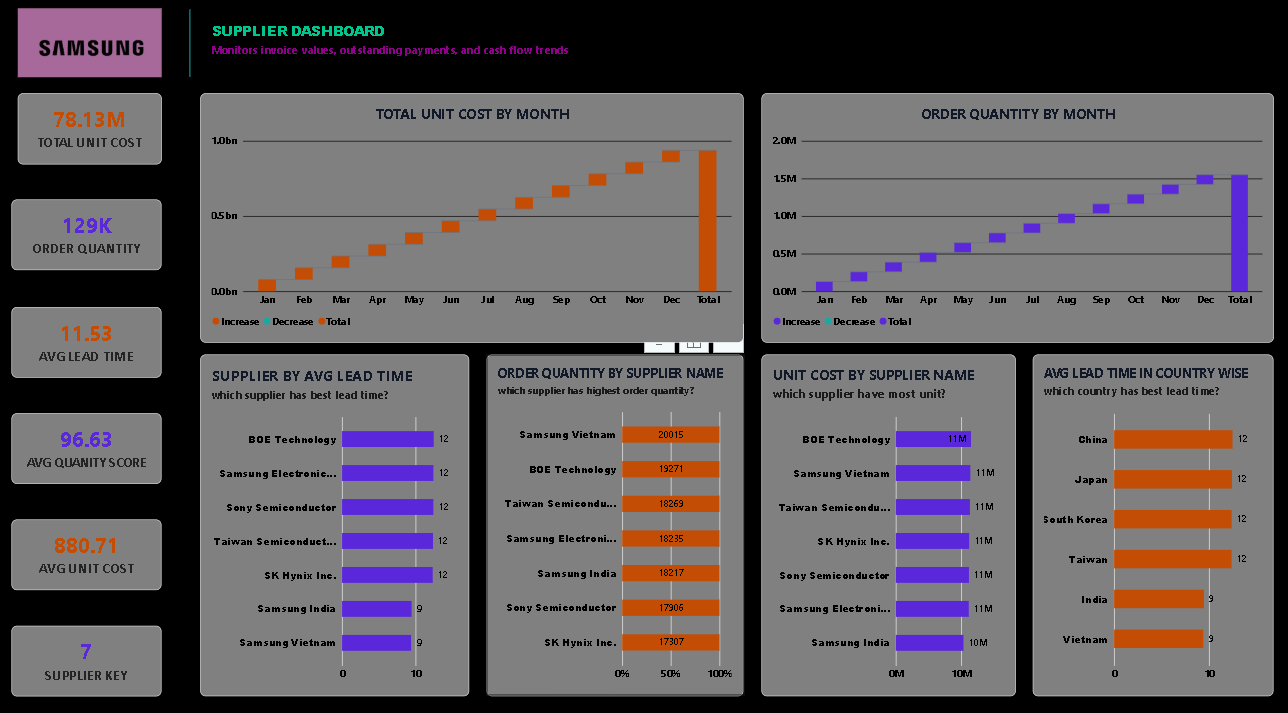

This screenshot's page, from the dashboard's own definition file:
{"tool":"powerbi","page":{"name":"SUPPLIER","canvas":[1920,1080],"ordinal":2},"visuals":[{"type":"cardVisual","fields":{"Data":["MeasureTable.Order_Quantity"]},"box":[25.3,299,221,104],"z":0},{"type":"shape","box":[200.6,18.4,175.5,99.5],"z":1000},{"type":"image","box":[35,16.6,211.7,101.2],"z":2000},{"type":"textbox","title":"SUPPLIER DASHBOARD","box":[320.2,35,532,67],"z":3000},{"type":"cardVisual","fields":{"Data":["MeasureTable.Avg_Lead_Time"]},"box":[25.3,455.9,221,104],"z":4000},{"type":"cardVisual","fields":{"Data":["MeasureTable.Avg_quality_score"]},"box":[25.3,612.8,221,104],"z":5000},{"type":"cardVisual","fields":{"Data":["MeasureTable.Avg_unit_cost"]},"box":[25.3,769.7,221,104],"z":6000},{"type":"cardVisual","fields":{"Data":["MeasureTable.Total_unit_cost"]},"box":[34.4,141.2,211.7,105],"z":7000},{"type":"cardVisual","fields":{"Data":["Count(dim_supplier.supplier_key)"]},"box":[25.3,926.5,221,104],"z":8000},{"type":"barChart","title":"SUPPLIER BY AVG LEAD TIME","fields":{"Y":["MeasureTable.Avg_Lead_Time"],"Category":["dim_supplier.supplier_name"]},"box":[304,526.6,396.3,503.1],"z":9000},{"type":"barChart","title":"UNIT COST BY SUPPLIER NAME","fields":{"Category":["dim_supplier.supplier_name"],"Y":["MeasureTable.Total_unit_cost"]},"box":[1129.2,526.6,374.6,503.1],"z":10000},{"type":"hundredPercentStackedBarChart","title":"ORDER QUANTITY BY SUPPLIER NAME","fields":{"Y":["MeasureTable.Order_Quantity"],"Category":["dim_supplier.supplier_name"]},"box":[725.7,526.6,378.2,503.1],"z":11000},{"type":"barChart","title":"AVG LEAD TIME IN COUNTRY WISE","fields":{"Y":["MeasureTable.Avg_Lead_Time"],"Category":["dim_supplier.country"]},"box":[1529.2,526.6,354.7,503.1],"z":12000},{"type":"waterfallChart","title":"TOTAL UNIT COST BY MONTH","fields":{"Category":["dim_date.Month_short"],"Y":["MeasureTable.Total_unit_cost"]},"box":[304,141.2,799.9,367.4],"z":13000},{"type":"waterfallChart","title":"ORDER QUANTITY BY MONTH","fields":{"Y":["MeasureTable.Order_Quantity"],"Category":["dim_date.Month_short"]},"box":[1129.2,141.2,754.6,367.4],"z":14000}]}

Visuals, with their boxes in screenshot pixels (x1, y1, x2, y2), scaled from the page's 1920x1080 canvas onto the 1288x713 screenshot:
cardVisual - MeasureTable.Order_Quantity: x1=17 y1=197 x2=165 y2=266
shape: x1=135 y1=12 x2=252 y2=78
image: x1=23 y1=11 x2=165 y2=78
"SUPPLIER DASHBOARD" textbox: x1=215 y1=23 x2=572 y2=67
cardVisual - MeasureTable.Avg_Lead_Time: x1=17 y1=301 x2=165 y2=370
cardVisual - MeasureTable.Avg_quality_score: x1=17 y1=405 x2=165 y2=473
cardVisual - MeasureTable.Avg_unit_cost: x1=17 y1=508 x2=165 y2=577
cardVisual - MeasureTable.Total_unit_cost: x1=23 y1=93 x2=165 y2=163
cardVisual - Count(dim_supplier.supplier_key): x1=17 y1=612 x2=165 y2=680
"SUPPLIER BY AVG LEAD TIME" barChart: x1=204 y1=348 x2=470 y2=680
"UNIT COST BY SUPPLIER NAME" barChart: x1=758 y1=348 x2=1009 y2=680
"ORDER QUANTITY BY SUPPLIER NAME" hundredPercentStackedBarChart: x1=487 y1=348 x2=741 y2=680
"AVG LEAD TIME IN COUNTRY WISE" barChart: x1=1026 y1=348 x2=1264 y2=680
"TOTAL UNIT COST BY MONTH" waterfallChart: x1=204 y1=93 x2=741 y2=336
"ORDER QUANTITY BY MONTH" waterfallChart: x1=758 y1=93 x2=1264 y2=336
